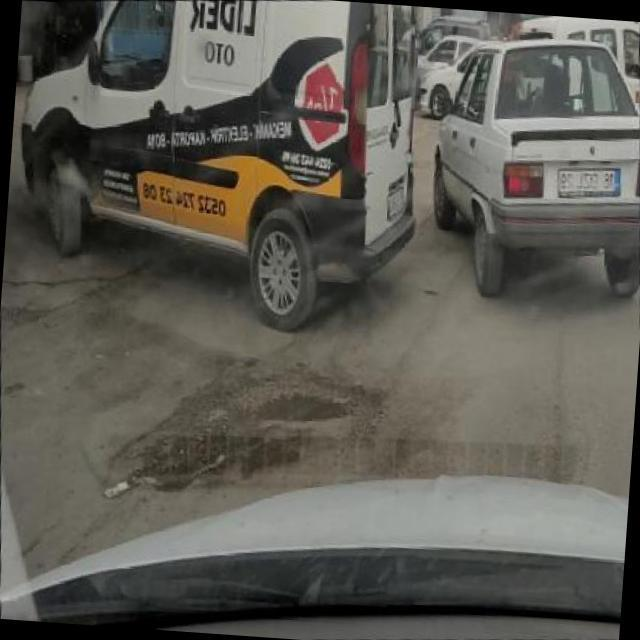Pothole: (227, 381, 373, 432)
